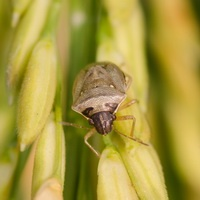insect: (72, 62, 148, 156)
